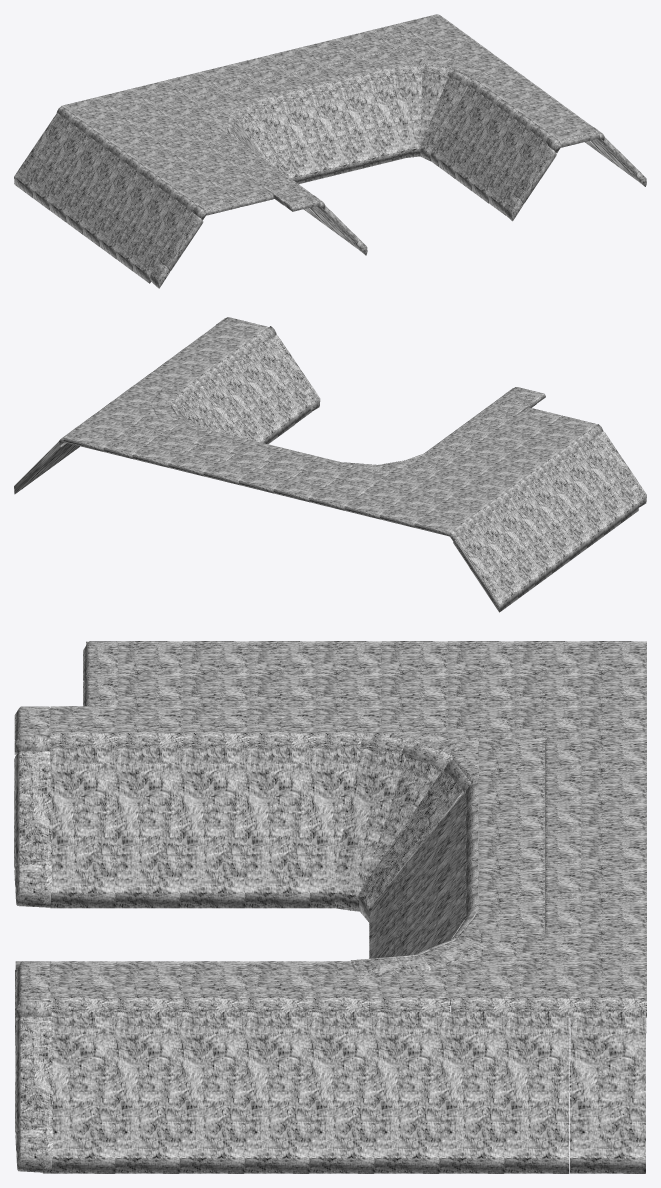
Rendered from town_hall_roof.fbx.
The picture shows the model from 3 angles, top to bottom: view 1: azimuth 30°, elevation 25°; view 2: azimuth 150°, elevation 25°; view 3: azimuth 270°, elevation 25°; orthographic projection. The views are drawn at different scales.
Visible parts, largest first — view 1: techo_paja_punta_6x4.014; view 2: techo_paja_punta_6x4.014; view 3: techo_paja_punta_6x4.014.
Part boxes in pixels (x1=…): techo_paja_punta_6x4.014: x1=14, y1=14, x2=646, y2=288; techo_paja_punta_6x4.014: x1=14, y1=317, x2=646, y2=612; techo_paja_punta_6x4.014: x1=14, y1=641, x2=646, y2=1173.
Bounding box in the file's own units: 4799 × 656 × 2863.
